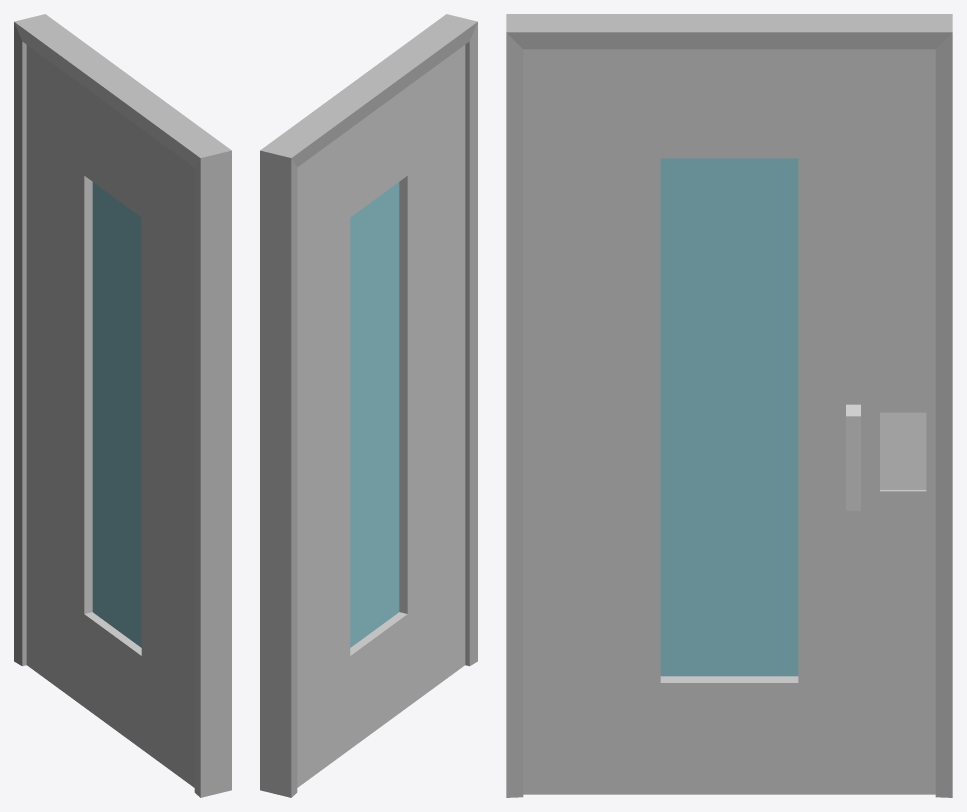
The model's file is Door_Science.fbx.
3 views of the same model, side by side, from view 1: azimuth 30°, elevation 25°; view 2: azimuth 150°, elevation 25°; view 3: azimuth 270°, elevation 25° (orthographic). The views are drawn at different scales.
Visible parts, largest first — view 1: Cube; view 2: Cube; view 3: Cube.
Part boxes in pixels (x1,y1,x2,y2): Cube: (14, 14, 231, 797); Cube: (260, 14, 477, 797); Cube: (506, 14, 952, 797).
Size of the model in its own units: 15.17 by 205 by 108.
